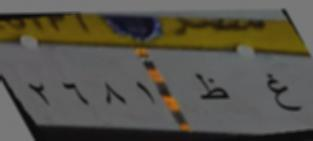1: (131, 79, 157, 106)
2: (29, 78, 52, 110)
6: (60, 78, 93, 110)
8: (102, 80, 128, 111)
Thaa: (192, 71, 232, 109)
ghayn: (260, 68, 303, 118)
